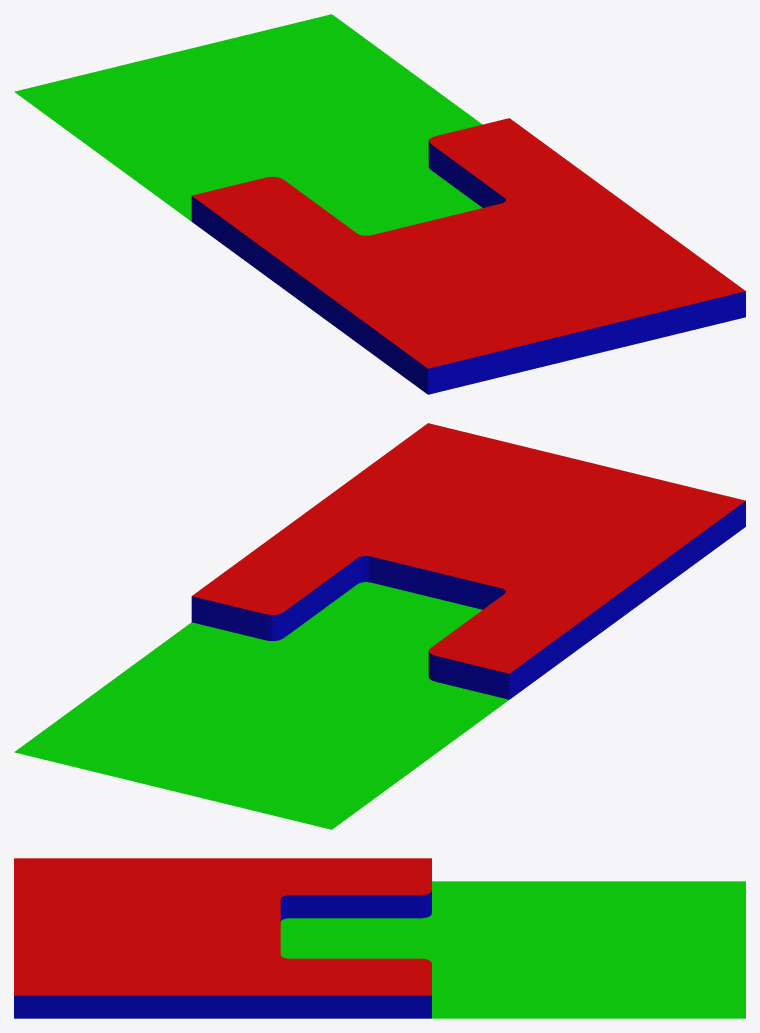
The model's file is BigBase 1.fbx.
The picture shows the model from 3 angles, top to bottom: view 1: azimuth 30°, elevation 25°; view 2: azimuth 150°, elevation 25°; view 3: azimuth 270°, elevation 25°; orthographic projection. The views are drawn at different scales.
Visible parts, largest first — view 1: BigBase; view 2: BigBase; view 3: BigBase.
Boxes of the visible parts, x1=… form: BigBase: x1=14, y1=14, x2=745, y2=394; BigBase: x1=14, y1=423, x2=745, y2=829; BigBase: x1=14, y1=858, x2=745, y2=1018.
Bounding box in the file's own units: 1860 × 146 × 4196.
